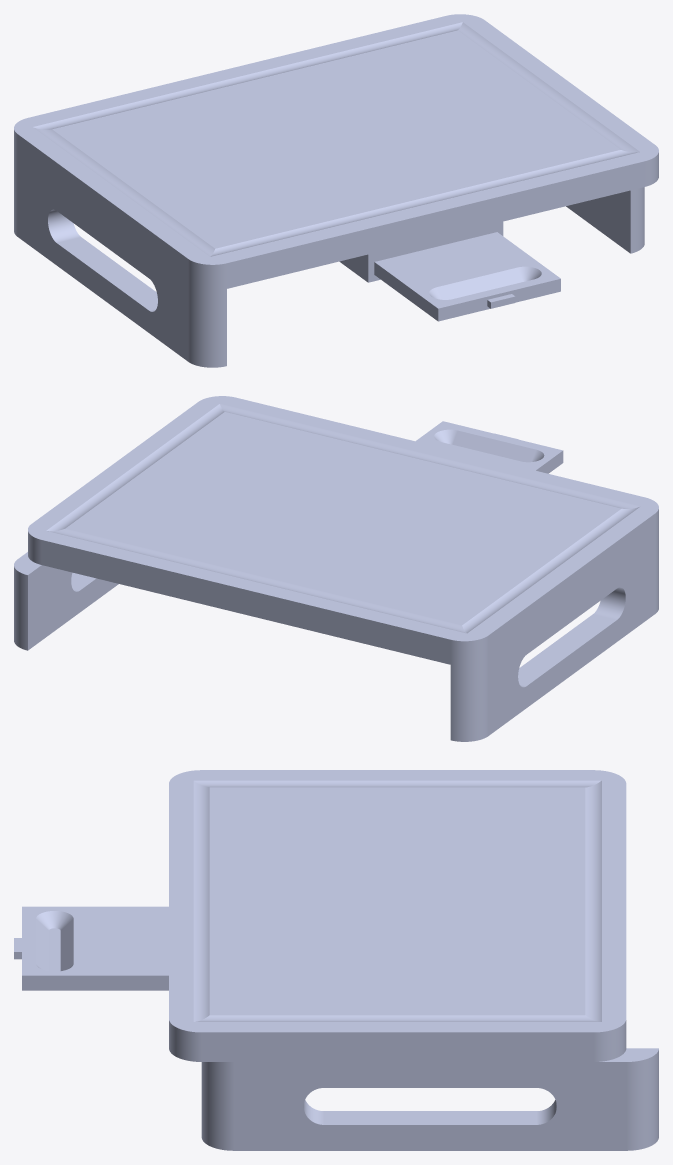
File: cutting-board.glb
3 renders of one model, top to bottom at view 1: azimuth 30°, elevation 25°; view 2: azimuth 150°, elevation 25°; view 3: azimuth 270°, elevation 25°, orthographic. The views are drawn at different scales.
Visible parts, largest first — view 1: NAUO1; view 2: NAUO1; view 3: NAUO1.
Boxes of the visible parts, x1,y1,x2,y2 form: NAUO1: (14,14,658,367); NAUO1: (14,396,658,741); NAUO1: (14,770,658,1150).
Size of the model in its own units: 0.38 by 0.08 by 0.3949.
